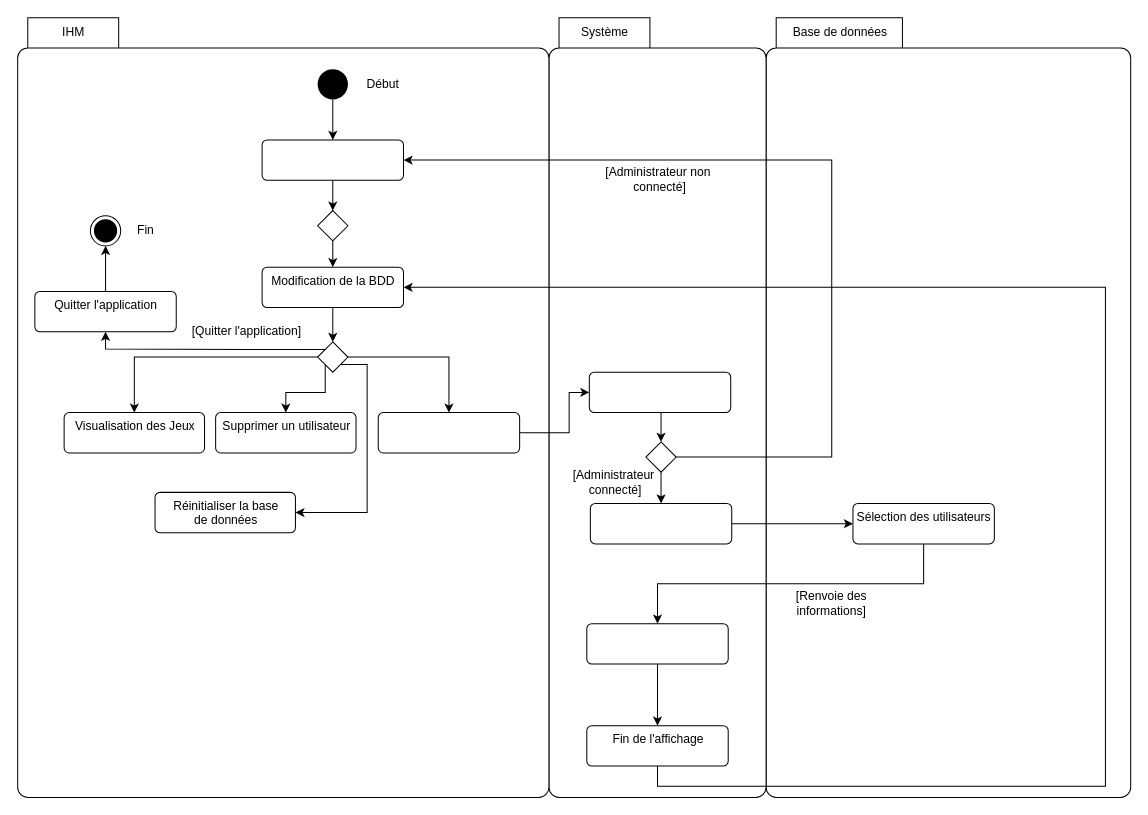
The diagram is 1148 pixels wide and 815 high, and some of its shapes have lost their labels. The shapes that lost their labels are listed below. From the top down, each one's centre as x and y in pixels, then its label:
At point (332, 159): "Menu Administrateur".
At point (659, 392): "Vérification de connexion".
At point (448, 432): "Visualisation des utilisateurs".
At point (660, 523): "Récupération des données".
At point (657, 643): "Affichage des données".
